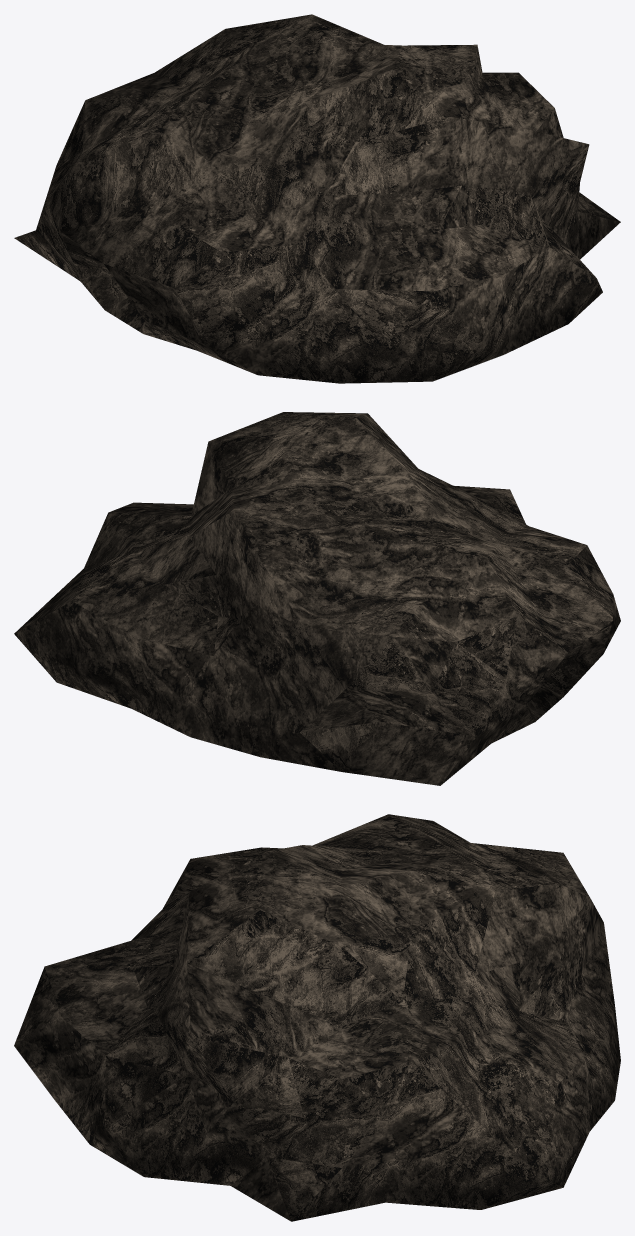
File: rock_2.glb
3 views of the same model, one above another, from view 1: azimuth 30°, elevation 25°; view 2: azimuth 150°, elevation 25°; view 3: azimuth 270°, elevation 25° (orthographic). The views are drawn at different scales.
Parts seen in each view (by area): view 1: rock; view 2: rock; view 3: rock.
Part boxes in pixels (x1,y1,x2,y2): rock: (14,14,620,383); rock: (14,412,620,785); rock: (14,814,620,1221).
Size of the model in its own units: 38.2 by 15.52 by 35.13.
Materials: 1 (1 with a texture image).
